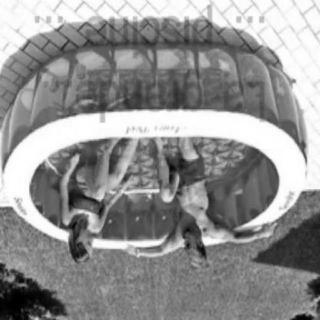other: (251, 128, 303, 222)
